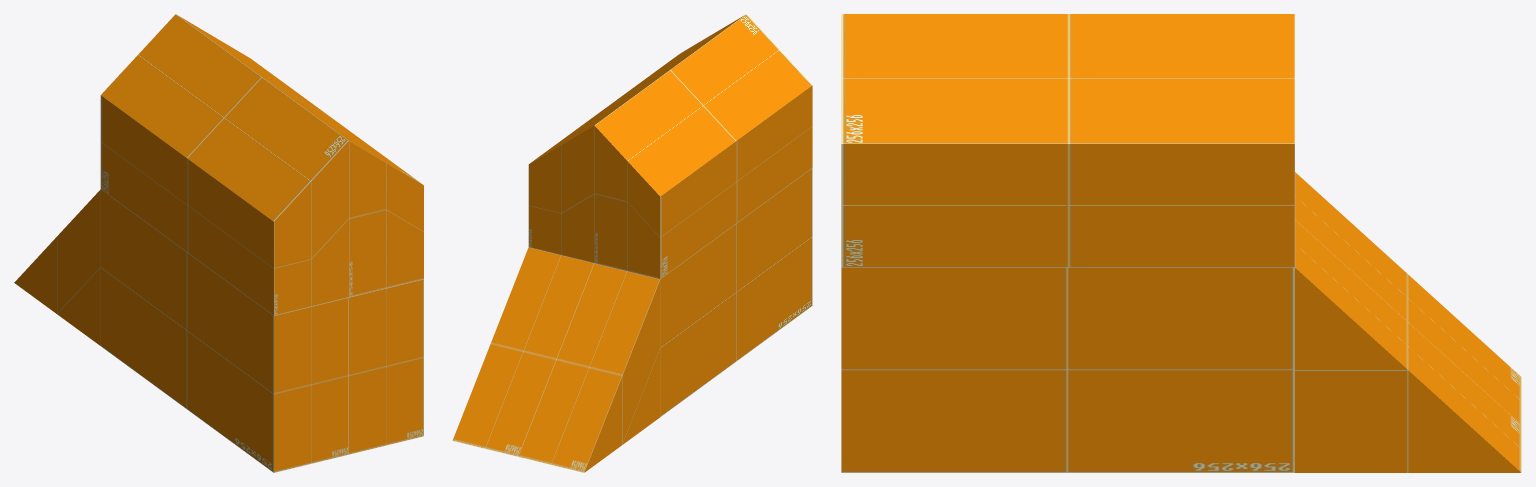
The model's file is small.glb.
3 renders of one model, left to right at view 1: azimuth 30°, elevation 25°; view 2: azimuth 150°, elevation 25°; view 3: azimuth 270°, elevation 25°, orthographic. The views are drawn at different scales.
Visible parts, largest first — view 1: Cube; view 2: Cube; view 3: Cube.
Boxes of the visible parts, box(x1,y1,x2,y2) form: Cube: box(14, 14, 423, 472); Cube: box(452, 14, 812, 472); Cube: box(841, 14, 1521, 472).
Size of the model in its own units: 5 by 10 by 15.
Materials: 2 (1 with a texture image).
